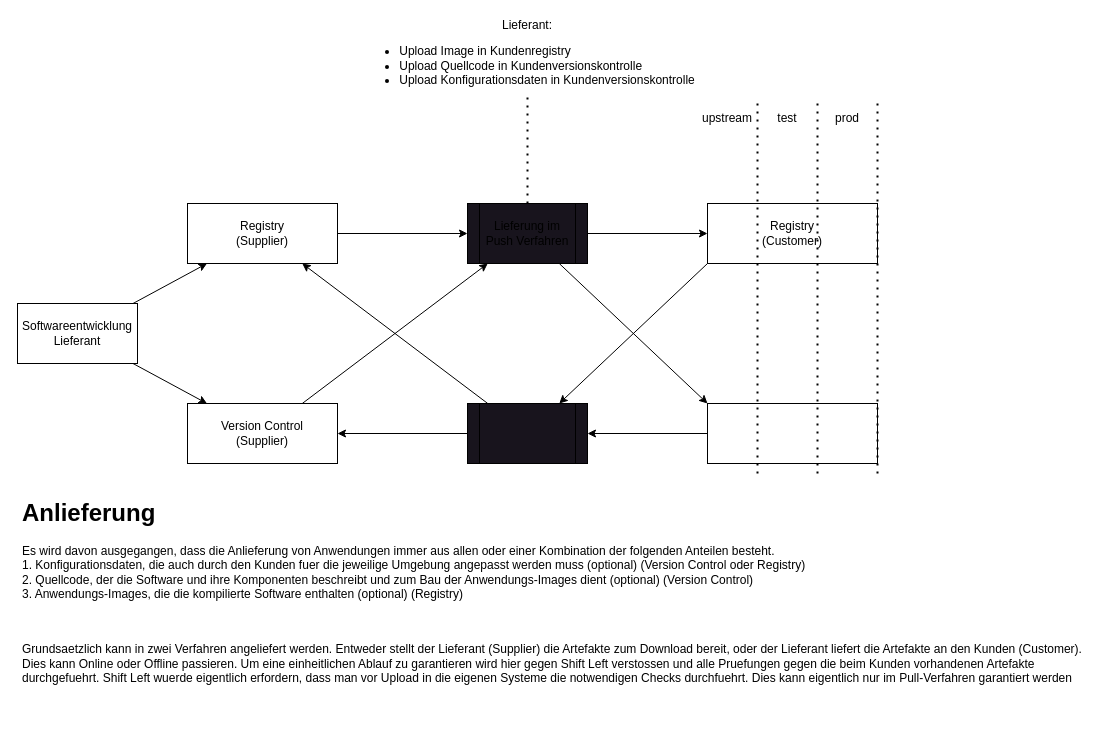
Some shapes in this 1115 by 730 pixel diagram are drawn without their labels. The centre of each missing label's shape, as x and y in pixels:
"Lieferung im Pull Verfahren" goes at (x=527, y=433).
"Version Control (Customer)" goes at (x=792, y=433).
